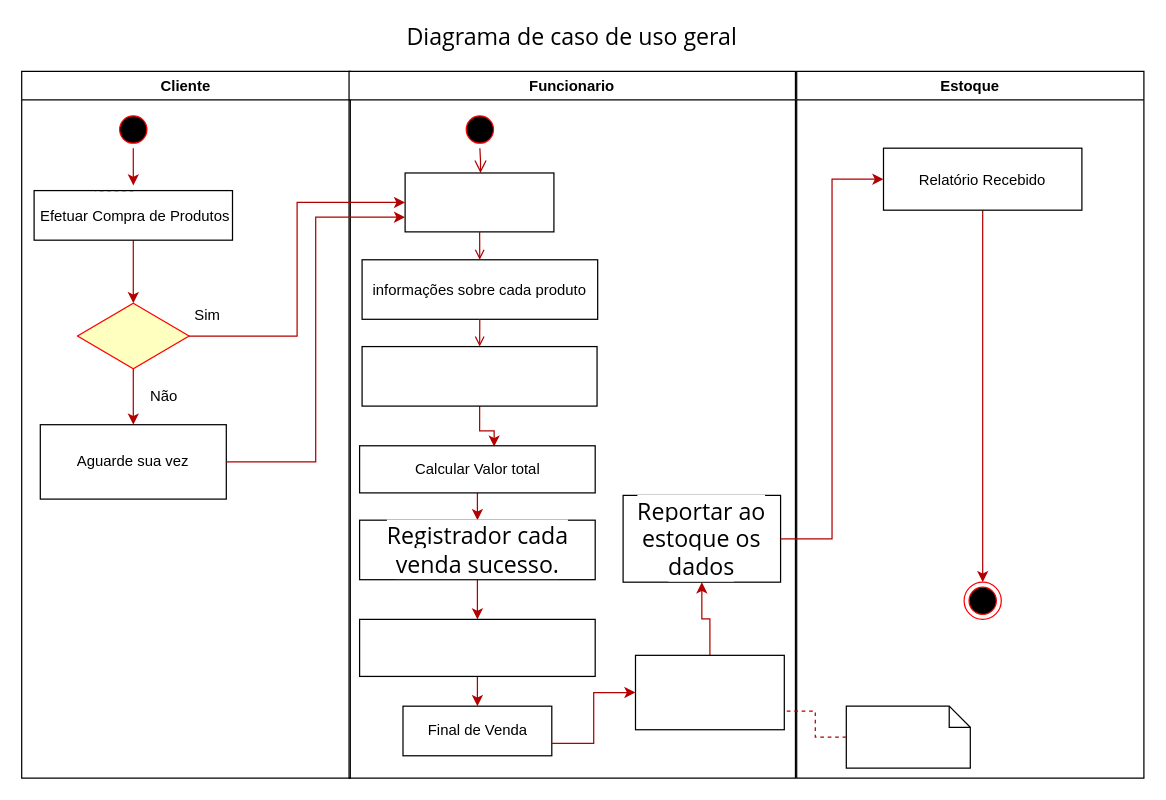
Some shapes in this 1166 by 800 pixel diagram are drawn without their labels. The shapes that lost their labels are listed below. From the top down, each one's centre as x and y in pixels, then its label:
At pixel 479 202: "Exibir Senha Sistema".
At pixel 132 335: "Caixa Vazia".
At pixel 479 375: "Registrador produtos cada venda.".
At pixel 476 647: "Receber Pagamento".
At pixel 709 692: "Emite Relatório Estoque".
At pixel 907 736: "Importante".
